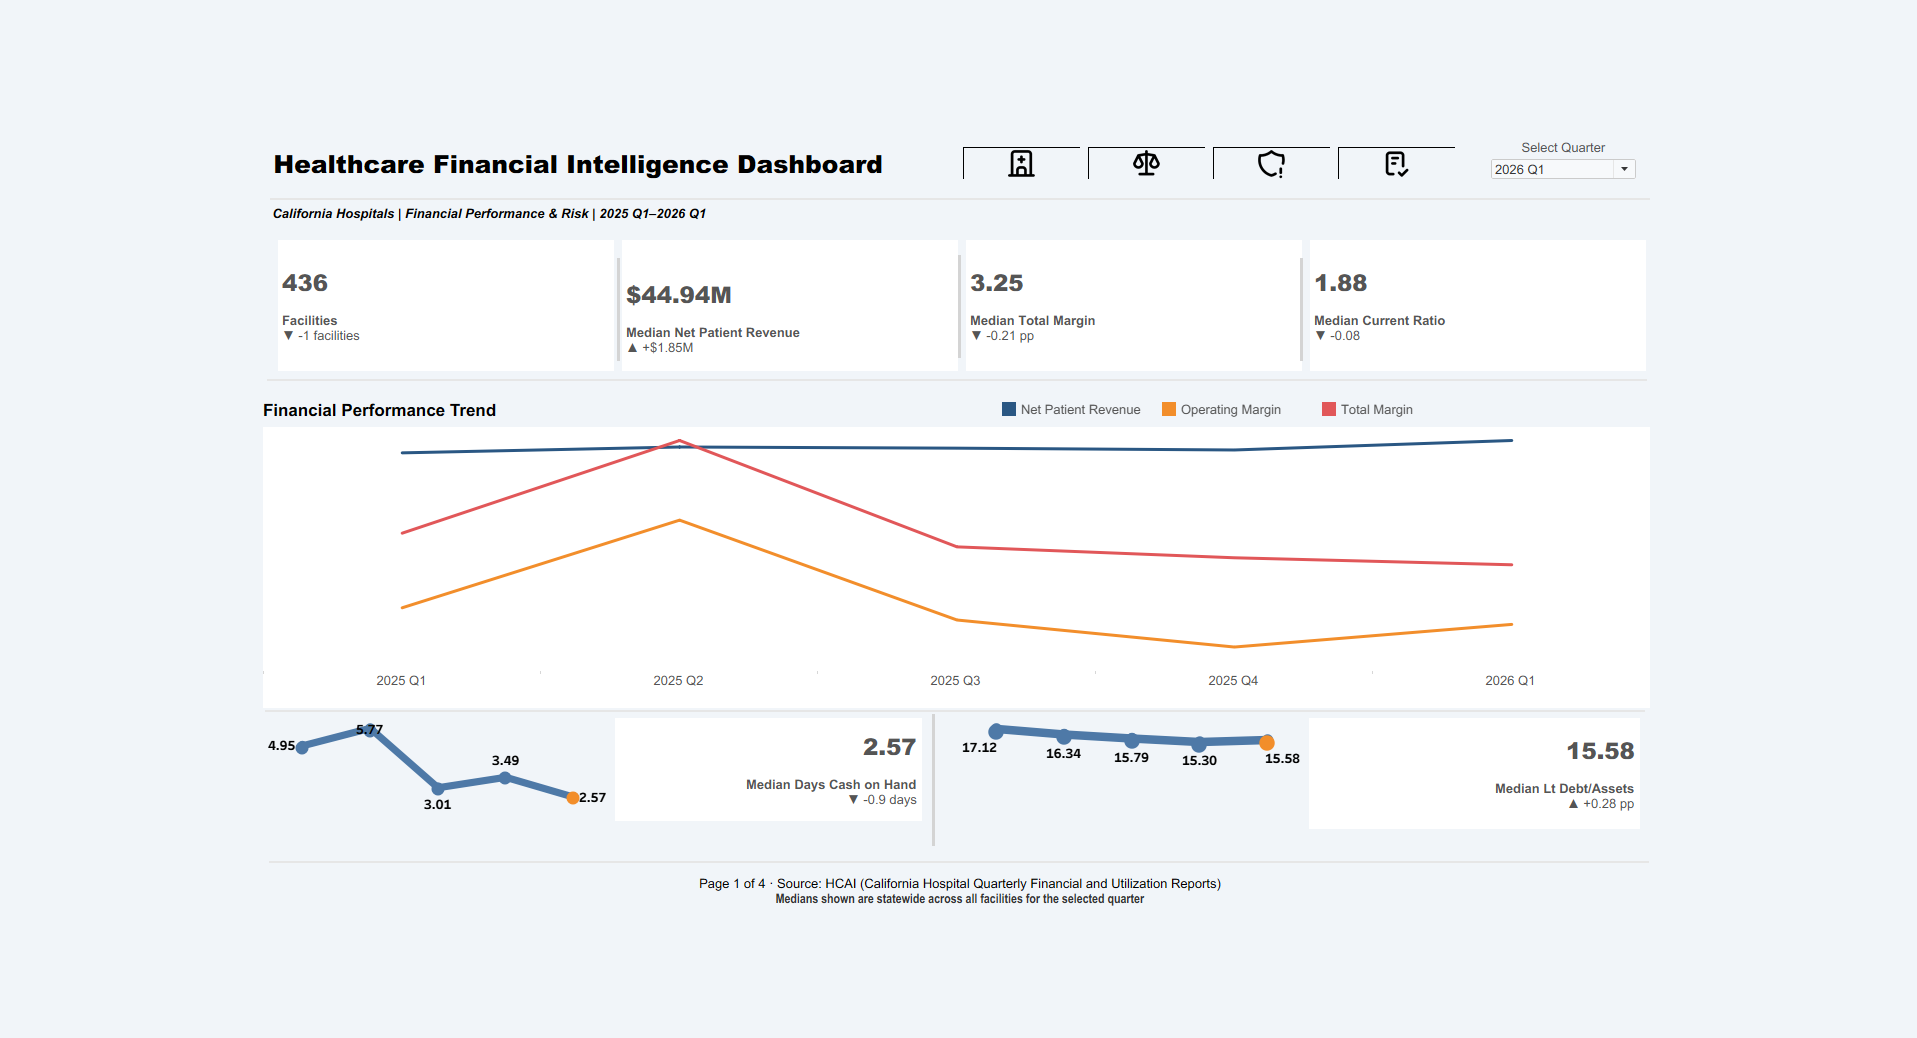

What the dashboard file says about the page in this screenshot:
{"tool":"tableau","page":{"name":"Home","canvas":[1400,800],"ordinal":2},"visuals":[{"type":"text","box":[6,12,1388,61]},{"type":"parameter","param":"[Parameters].[Parameter 1784005467074563]","box":[1224,15,159,56]},{"type":"dashboard-object","box":[699,22,125,40]},{"type":"dashboard-object","box":[824,22,125,40]},{"type":"dashboard-object","box":[949,22,125,40]},{"type":"dashboard-object","box":[1074,22,125,40]},{"type":"blank","box":[6,73,1388,10]},{"type":"text","box":[9,78,989,29]},{"type":"worksheet","title":"Financial Overview","mark":"Automatic","box":[14,115,344,139]},{"type":"worksheet","title":"Net Patient Revenue","mark":"Automatic","box":[358,115,344,139]},{"type":"worksheet","title":"Total Margin","mark":"Automatic","box":[702,115,344,139]},{"type":"worksheet","title":"Current Ratio","mark":"Automatic","box":[1046,115,344,139]},{"type":"blank","box":[694,130,11,111]},{"type":"blank","box":[353,133,11,111]},{"type":"blank","box":[1036,133,11,111]},{"type":"blank","box":[3,254,1388,10]},{"type":"legend","title":"Financial Performance Trend","param":"[federated.1pdx1uj09bj3c811topkt1kvguux].[:Measure Names]","box":[739,278,490,24]},{"type":"worksheet","title":"Financial Performance Trend","mark":"Line","rows":["NET_TOT"],"cols":["Calculation_1135014951743488"],"box":[3,280,1387,307]},{"type":"blank","box":[1,585,1388,10]},{"type":"blank","box":[668,589,11,140]},{"type":"worksheet","title":"P1 - Days Cash Sparkline","mark":"Line","rows":["DAYS_CASH_ON_HAND","DAYS_CASH_ON_HAND"],"cols":["Calculation_1135014951743488"],"box":[4,593,347,142]},{"type":"worksheet","title":"Days Cash on Hand","mark":"Automatic","box":[351,593,347,142]},{"type":"worksheet","title":"P1 - LT Debt Sparkline","mark":"Line","rows":["LT_DEBT_TO_ASSET_PCT","LT_DEBT_TO_ASSET_PCT"],"cols":["Calculation_1135014951743488"],"box":[698,593,347,142]},{"type":"worksheet","title":"Net LT Debt Assets","mark":"Automatic","box":[1045,593,346,142]},{"type":"blank","box":[5,736,1388,10]},{"type":"text","box":[8,748,1384,44]}]}

Visuals, with their boxes on the page's 1400x800 design canvas (x1, y1, x2, y2). These are canvas units, not pixel positions in the 1917x1038 screenshot, which may show the page scaled, cropped or inside an application window:
text: BBox(6, 12, 1394, 73)
parameter: BBox(1224, 15, 1383, 71)
dashboard-object: BBox(699, 22, 824, 62)
dashboard-object: BBox(824, 22, 949, 62)
dashboard-object: BBox(949, 22, 1074, 62)
dashboard-object: BBox(1074, 22, 1199, 62)
blank: BBox(6, 73, 1394, 83)
text: BBox(9, 78, 998, 107)
"Financial Overview" worksheet: BBox(14, 115, 358, 254)
"Net Patient Revenue" worksheet: BBox(358, 115, 702, 254)
"Total Margin" worksheet: BBox(702, 115, 1046, 254)
"Current Ratio" worksheet: BBox(1046, 115, 1390, 254)
blank: BBox(694, 130, 705, 241)
blank: BBox(353, 133, 364, 244)
blank: BBox(1036, 133, 1047, 244)
blank: BBox(3, 254, 1391, 264)
"Financial Performance Trend" legend: BBox(739, 278, 1229, 302)
"Financial Performance Trend" worksheet (Line marks): BBox(3, 280, 1390, 587)
blank: BBox(1, 585, 1389, 595)
blank: BBox(668, 589, 679, 729)
"P1 - Days Cash Sparkline" worksheet (Line marks): BBox(4, 593, 351, 735)
"Days Cash on Hand" worksheet: BBox(351, 593, 698, 735)
"P1 - LT Debt Sparkline" worksheet (Line marks): BBox(698, 593, 1045, 735)
"Net LT Debt Assets" worksheet: BBox(1045, 593, 1391, 735)
blank: BBox(5, 736, 1393, 746)
text: BBox(8, 748, 1392, 792)
